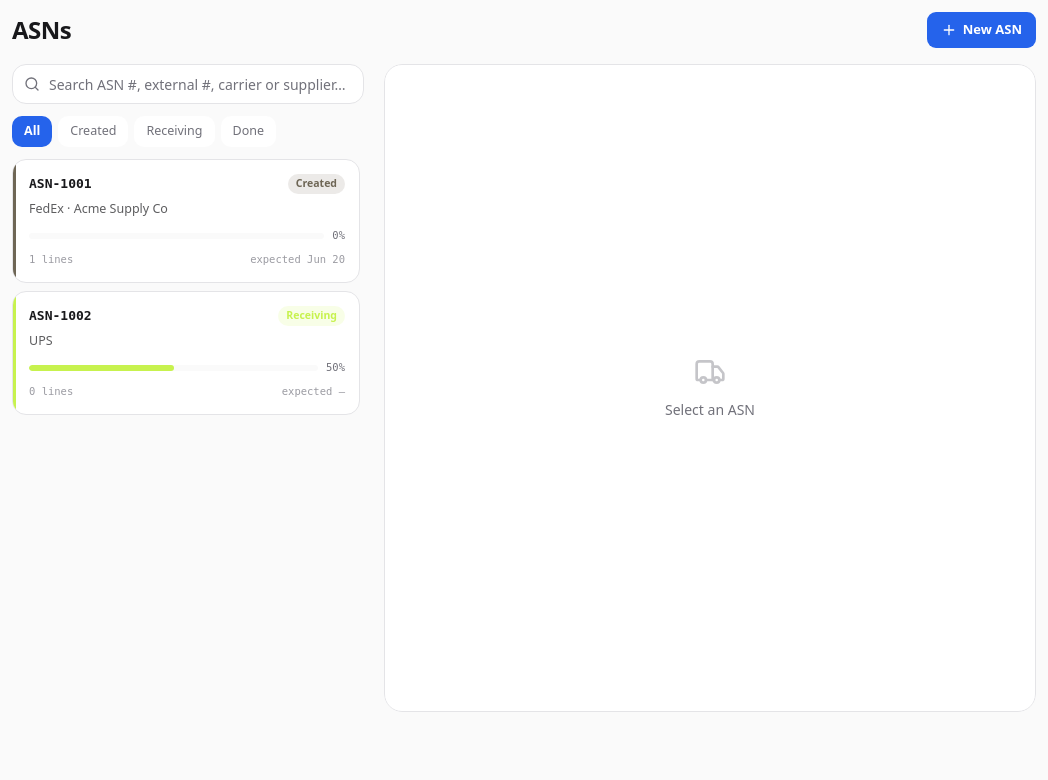
AsnsPage › create form validates that at least one line is filled
Click the button "New ASN". click: coordinates (981, 30)
box: [927,12,1036,48]
(page scrolled)
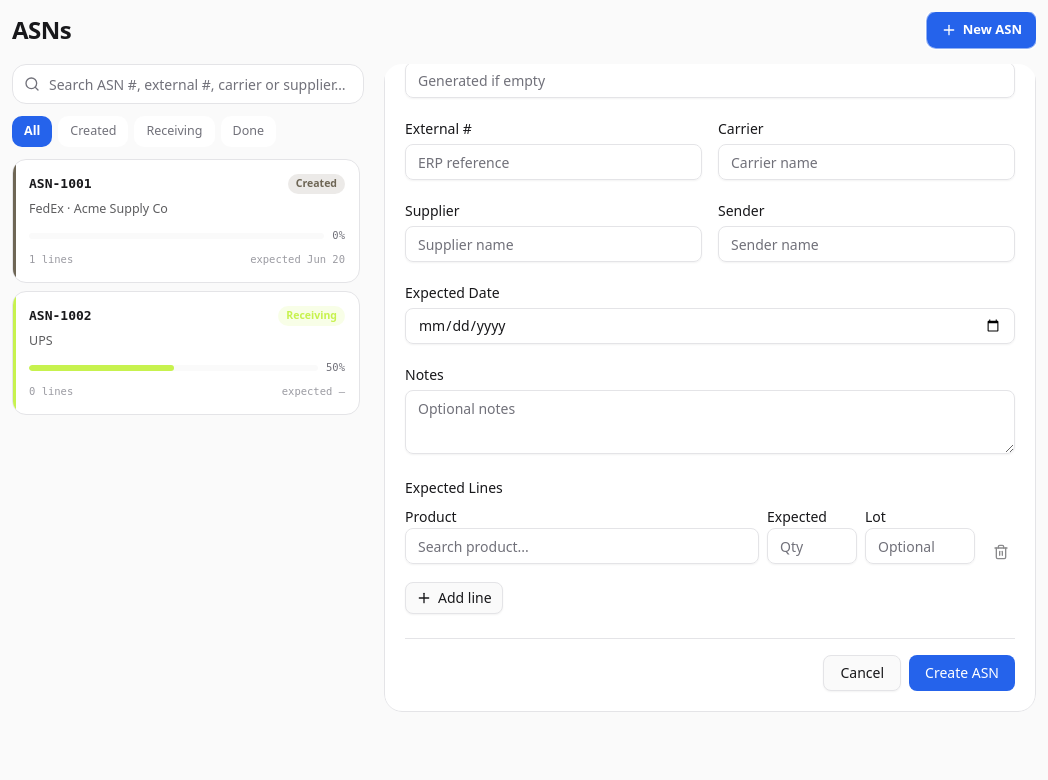
Click the button with test id "asn-form-submit". click: coordinates (962, 673)
box: [909,655,1015,691]
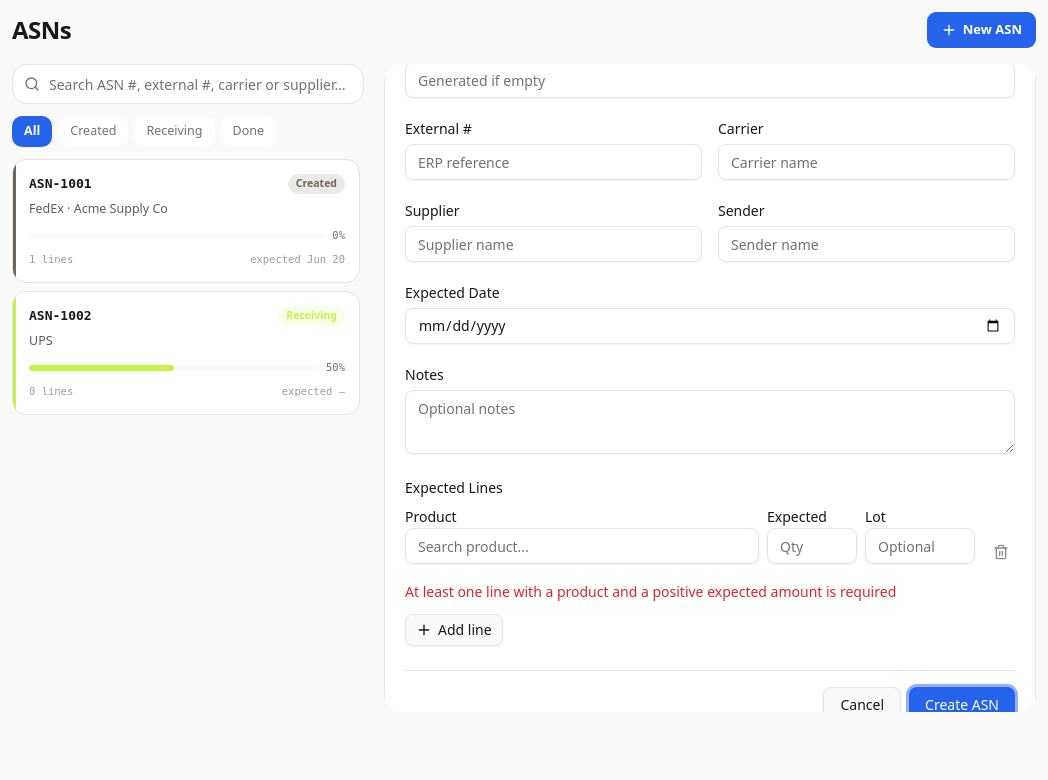
expect the text "At least one line with a product" is shown: met, box [405,582,896,601]
